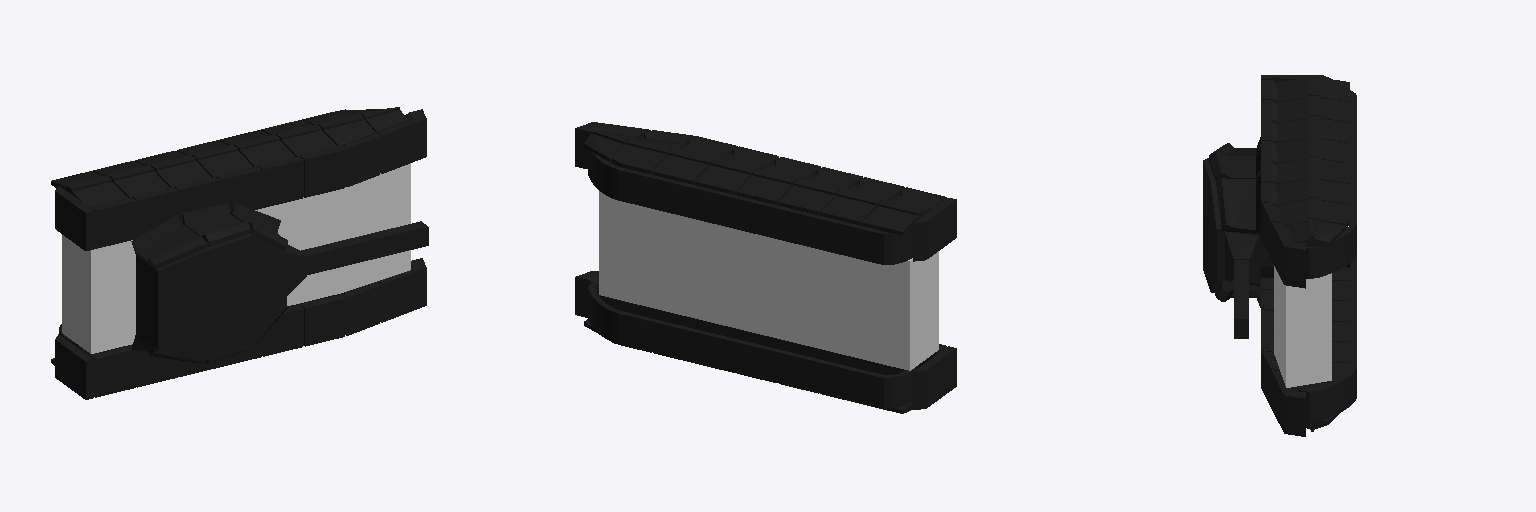
Rendered from Polar.obj.
3 renders of one model, left to right at view 1: azimuth 30°, elevation 25°; view 2: azimuth 150°, elevation 25°; view 3: azimuth 270°, elevation 25°, orthographic.
Visible parts, largest first — view 1: Turret, Glacis_Plate, Armoured_Skirt_L, Armoured_Skirt_R, Track_Protector_L; view 2: Glacis_Plate, Track_R, Track_Protector_L, Track_L, Armoured_Skirt_L, Armoured_Skirt_R; view 3: Track_Protector_L, Turret, Glacis_Plate, Armoured_Skirt_L, Armoured_Skirt_R, Track_R, Track_L, Track_Protector_R.
Boxes of the visible parts, x1,y1,x2,y2 form: Turret: [131, 203, 428, 363]; Glacis_Plate: [62, 163, 410, 353]; Armoured_Skirt_L: [55, 109, 426, 250]; Armoured_Skirt_R: [55, 258, 426, 399]; Track_Protector_L: [51, 107, 407, 206]; Glacis_Plate: [599, 191, 938, 370]; Track_R: [588, 281, 918, 408]; Track_Protector_L: [584, 130, 936, 235]; Track_L: [588, 150, 912, 264]; Armoured_Skirt_L: [575, 122, 956, 261]; Armoured_Skirt_R: [575, 271, 956, 409]; Track_Protector_L: [1276, 75, 1349, 246]; Turret: [1203, 137, 1273, 338]; Glacis_Plate: [1274, 266, 1331, 387]; Armoured_Skirt_L: [1261, 75, 1330, 288]; Armoured_Skirt_R: [1261, 278, 1305, 436]; Track_R: [1298, 255, 1356, 422]; Track_L: [1306, 90, 1356, 278]; Track_Protector_R: [1294, 266, 1349, 431].
Size of the model in its own units: 7.69 by 4.01 by 2.85.